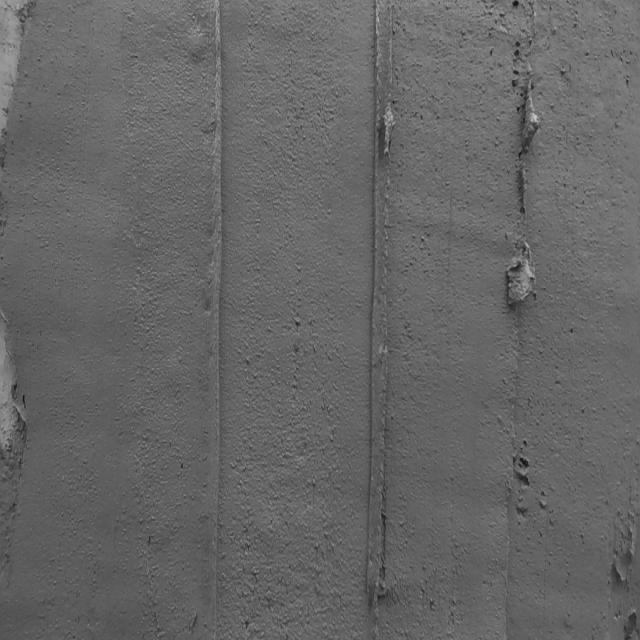trowels marks: (368, 1, 400, 607), (203, 2, 230, 640)
